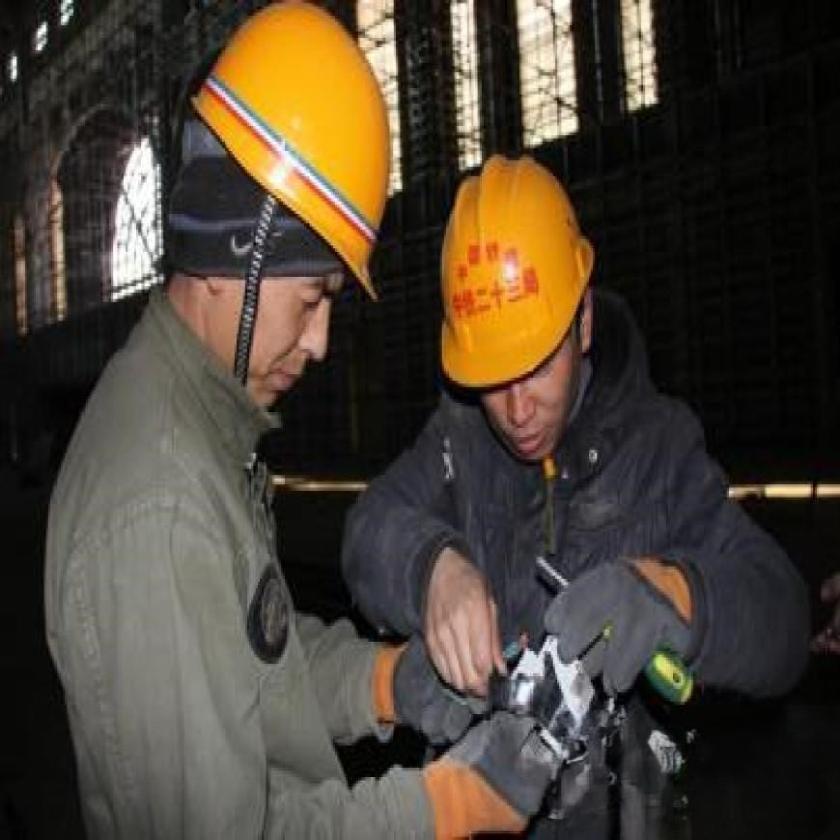Con_casco: (152, 0, 394, 409), (436, 151, 598, 462)
